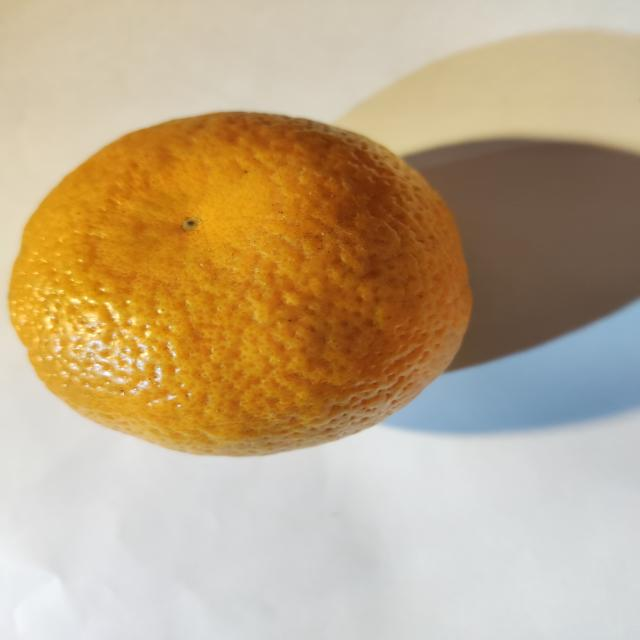orange: (10, 113, 471, 455)
